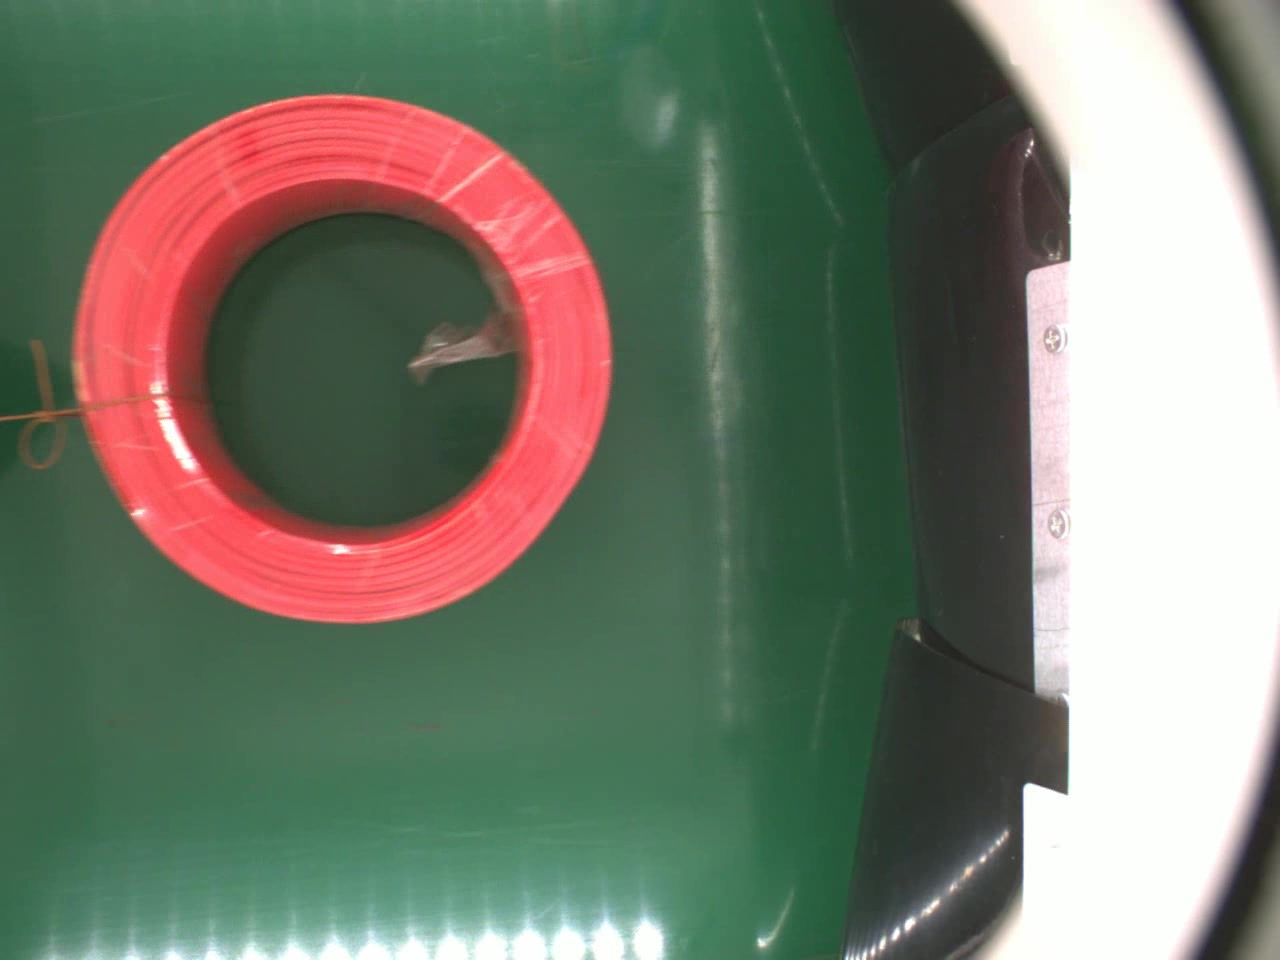red: (73, 91, 607, 620)
